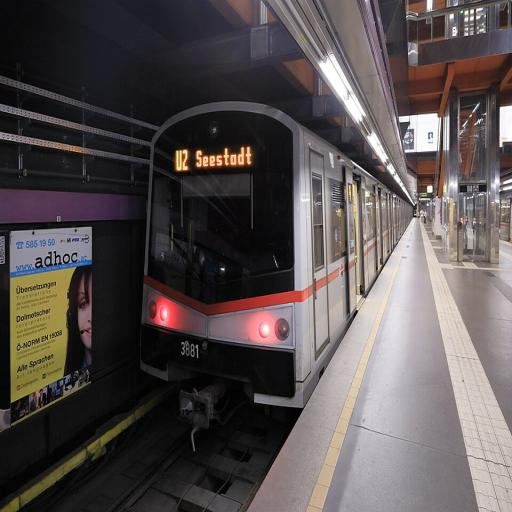V-Wagen: (139, 95, 412, 428)
